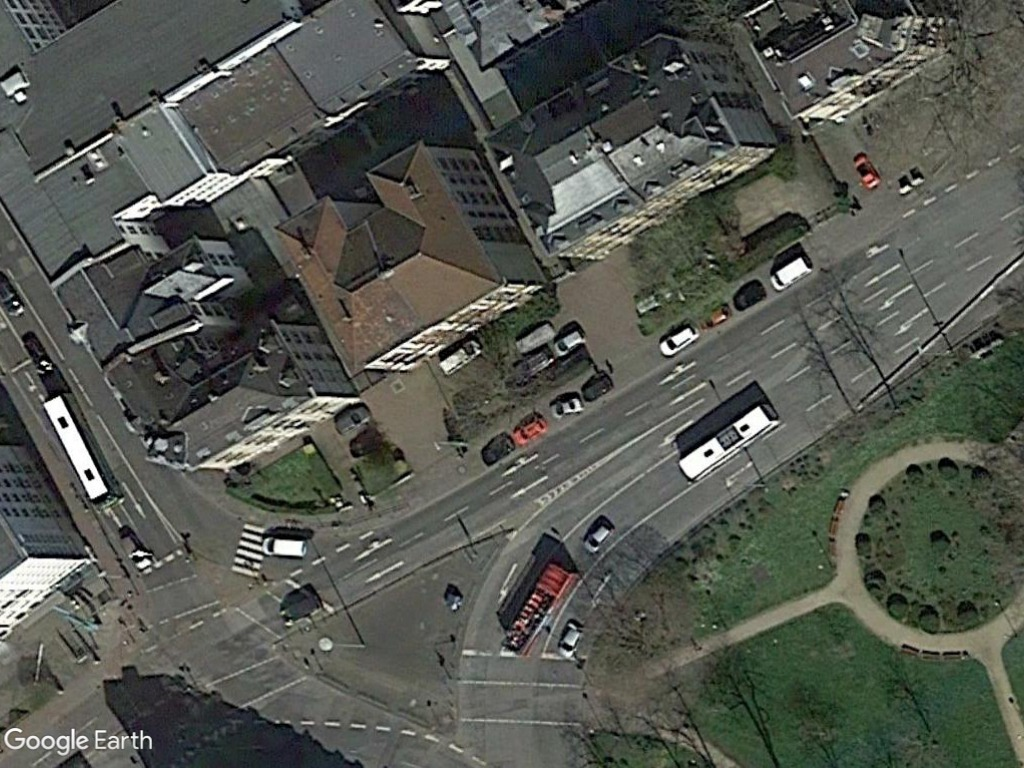bus: (673, 402, 781, 485), (36, 392, 113, 506)
car: (654, 320, 701, 359), (509, 413, 548, 449), (553, 621, 584, 663), (550, 325, 587, 359), (581, 520, 613, 556)
van: (765, 254, 814, 294), (258, 535, 311, 561)
